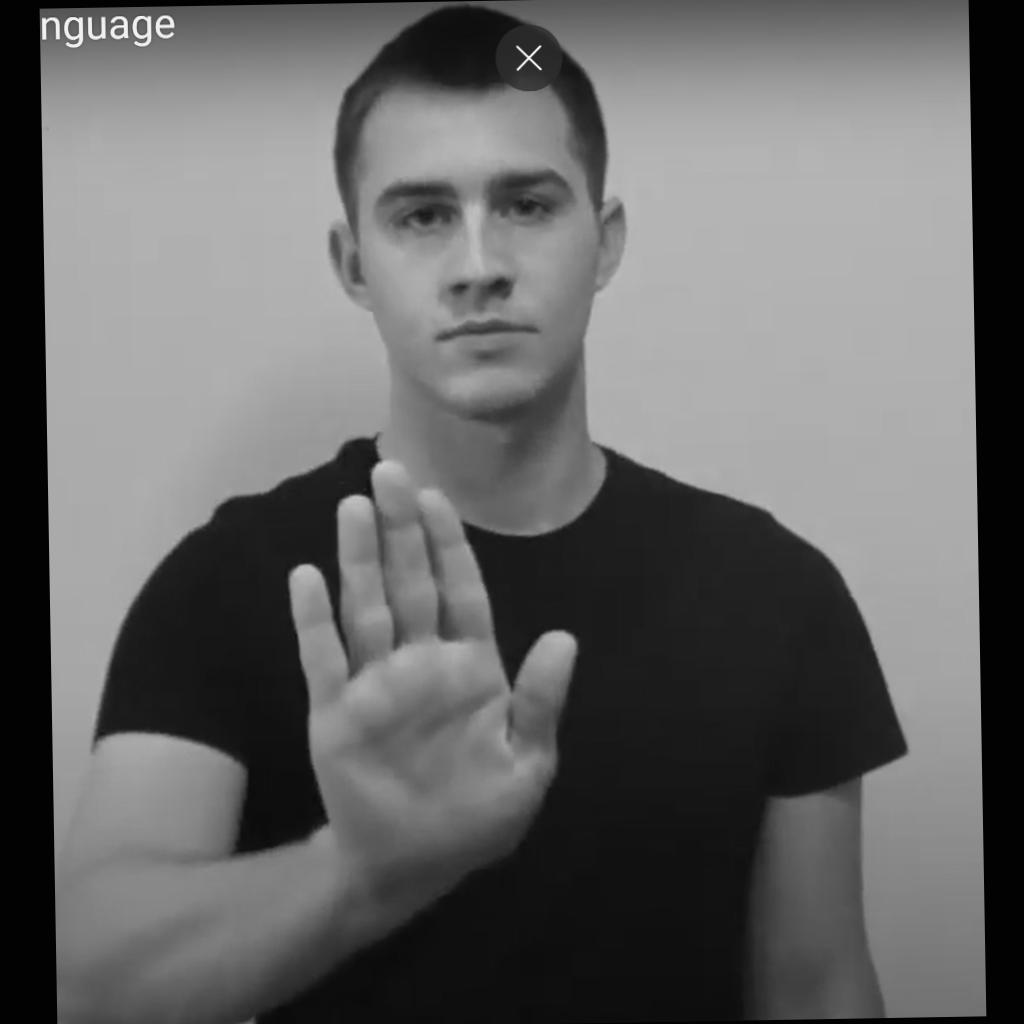your: (286, 456, 582, 875)
